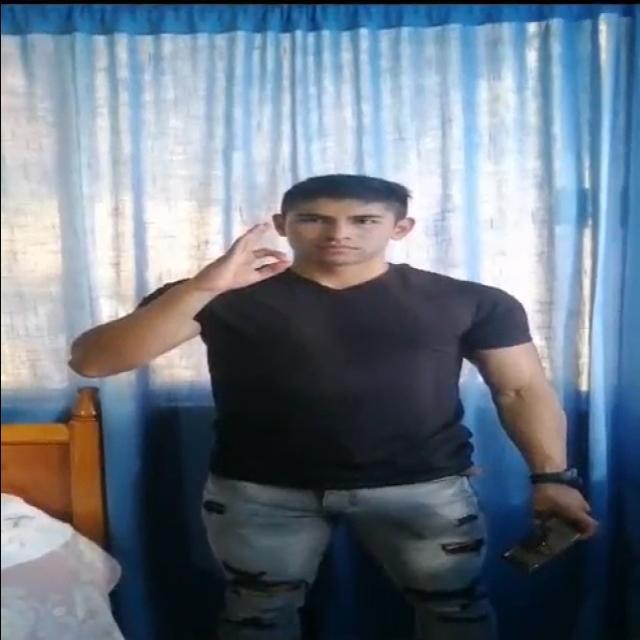D: (202, 194, 296, 318)
